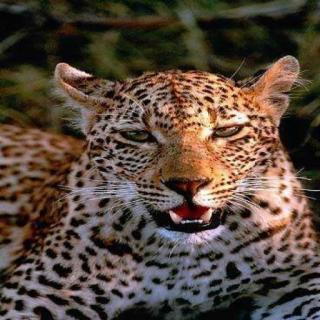Leopard: (0, 22, 317, 312)
